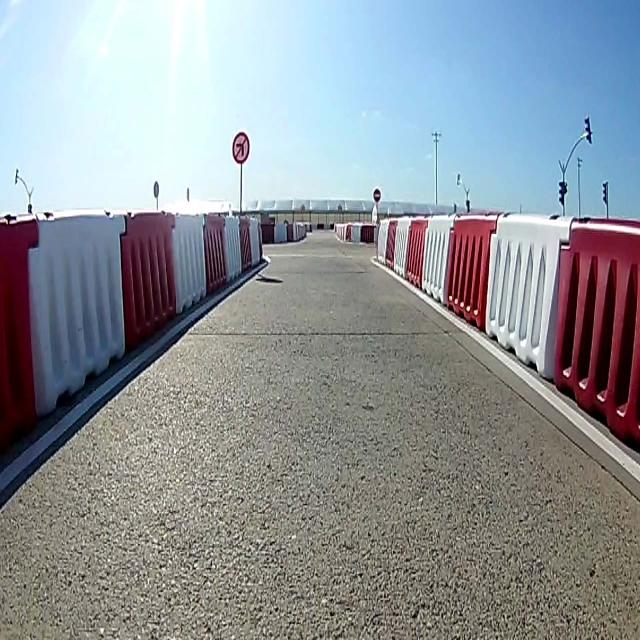girisyok: (372, 186, 382, 202)
soladonulmez: (232, 130, 250, 162)
